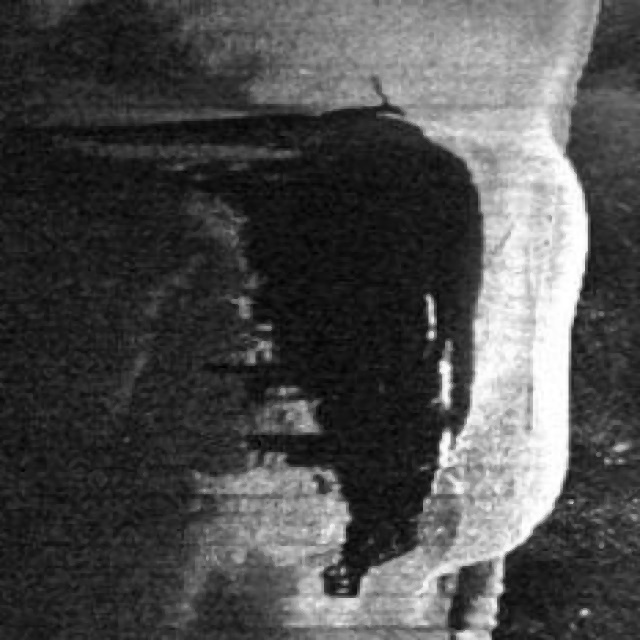Ship: (304, 82, 601, 601)
